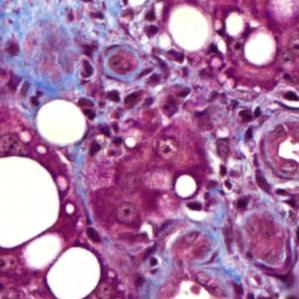steatosis: (164, 4, 214, 53), (36, 98, 86, 146)
